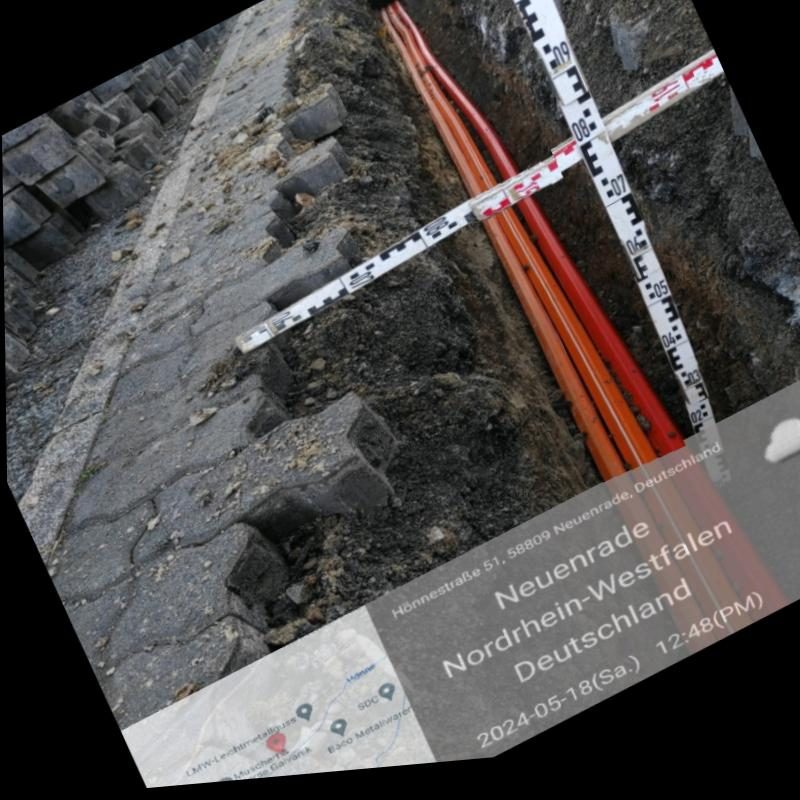Orang-Speednetrohrchen: (380, 11, 684, 496)
